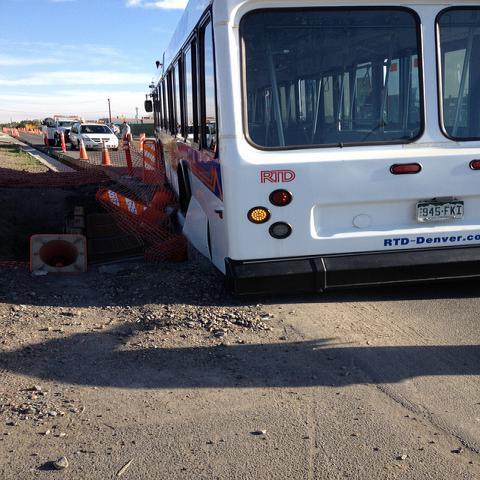bus: (144, 0, 477, 285)
car: (69, 123, 120, 151)
truck: (41, 115, 86, 147)
